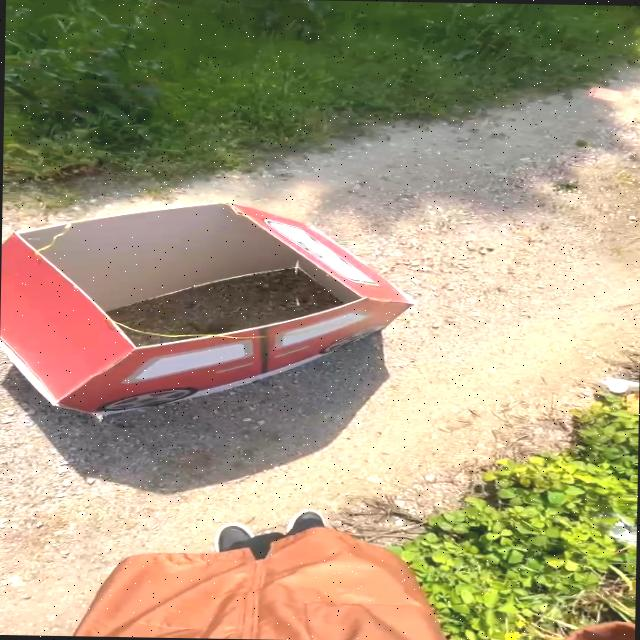red_car: (0, 184, 443, 455)
